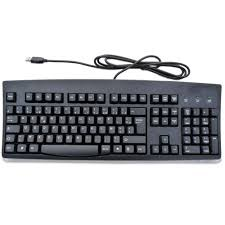keyboard: (0, 82, 220, 161)
